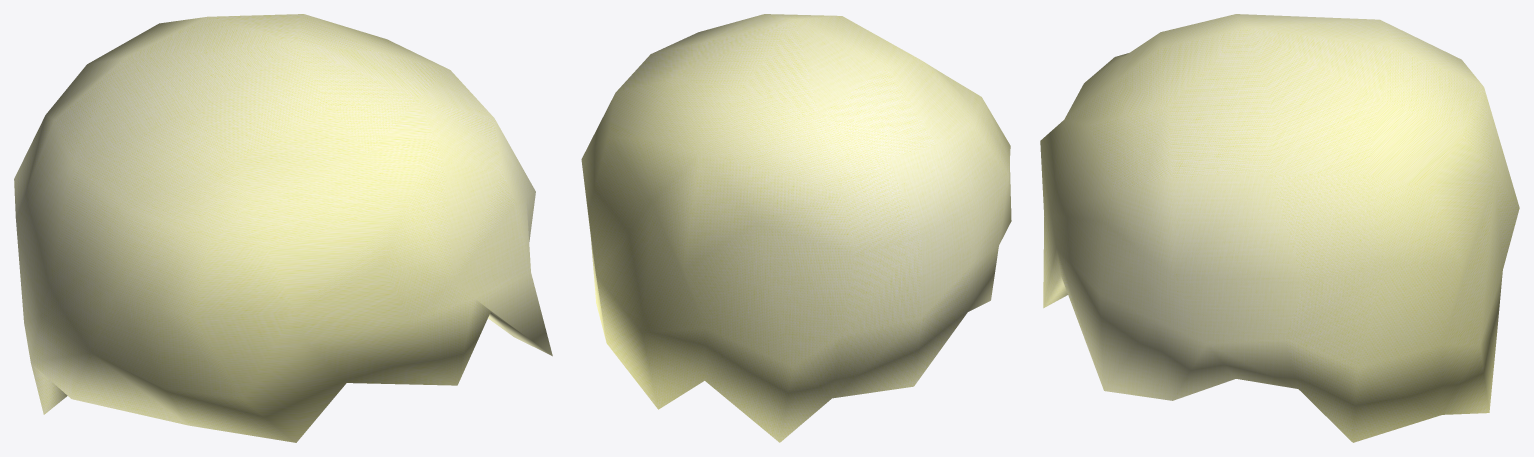
The model's file is cheveux.fbx.
The picture shows the model from 3 angles, left to right: view 1: azimuth 30°, elevation 25°; view 2: azimuth 150°, elevation 25°; view 3: azimuth 270°, elevation 25°; orthographic projection. The views are drawn at different scales.
Parts seen in each view (by area): view 1: Cube.003; view 2: Cube.003; view 3: Cube.003.
Part boxes in pixels (left/top/right/bottom): Cube.003: left=14, top=14, right=552, bottom=442; Cube.003: left=581, top=14, right=1011, bottom=442; Cube.003: left=1040, top=14, right=1519, bottom=442.
Size of the model in its own units: 388 by 332 by 378.
